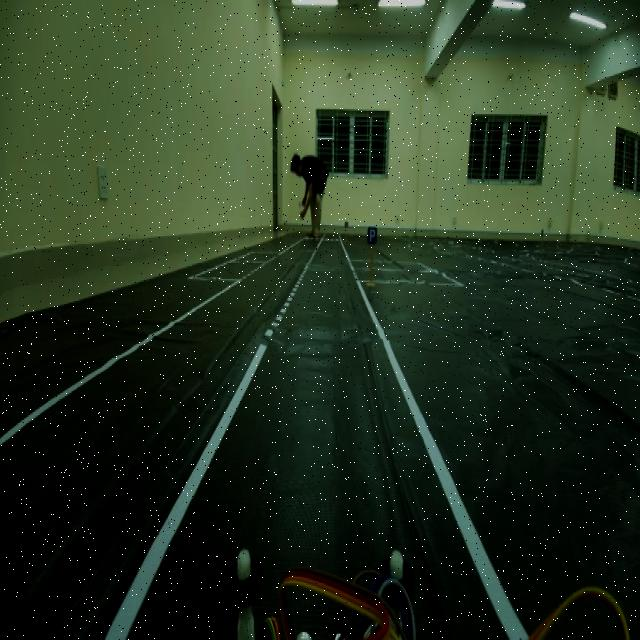parking: (364, 216, 380, 247)
